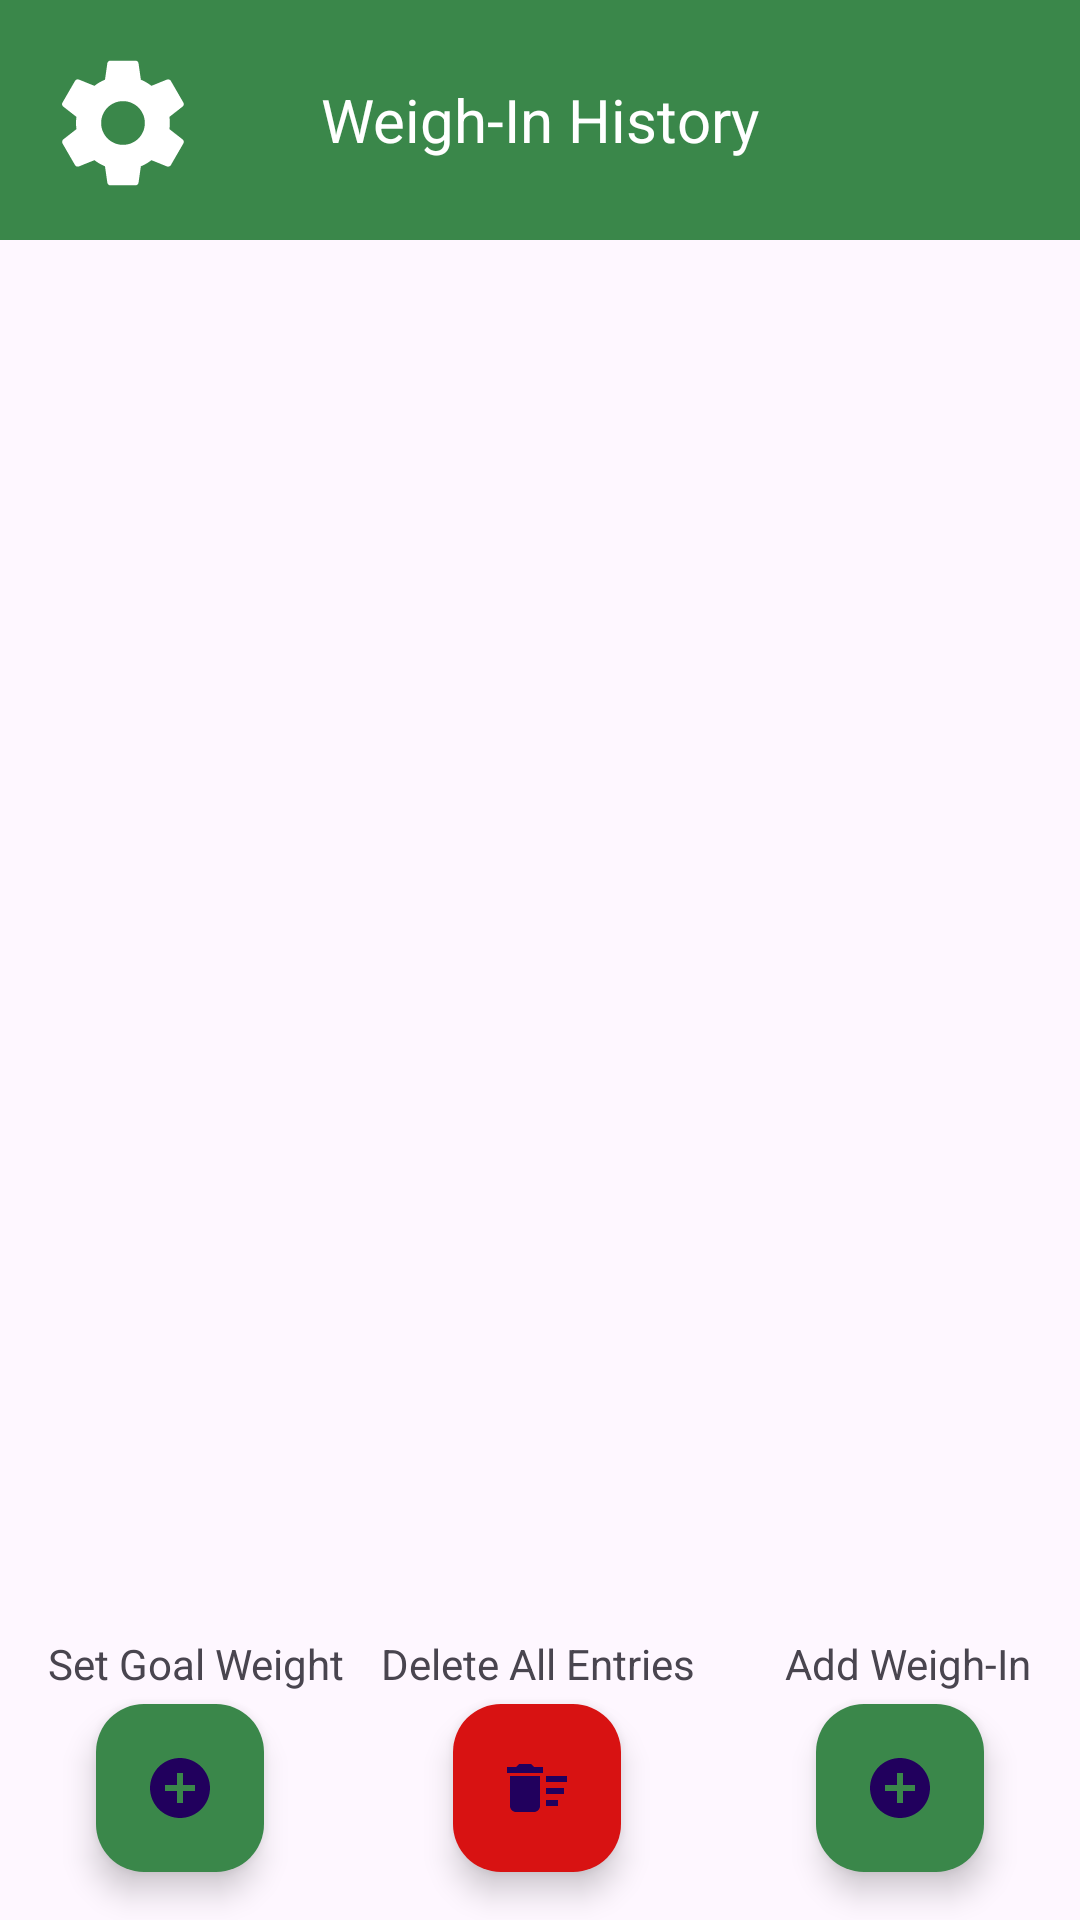

Icons on this 1080*1920 Android screen, each with the point to tap as (x=x, y=y):
add circle: (x=180, y=1788), (x=900, y=1788)
delete sweep: (x=537, y=1788)
Settings: (x=123, y=123)
